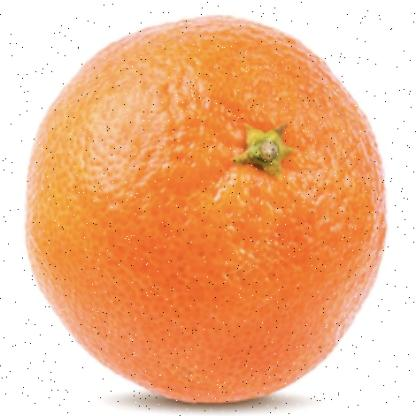fresh: (25, 24, 391, 407)
